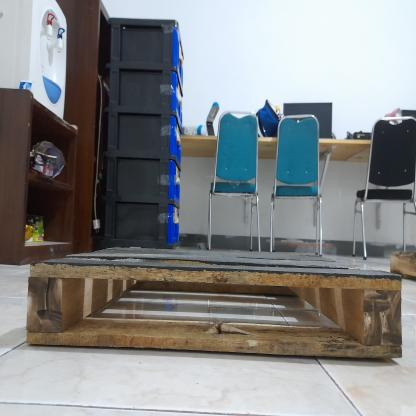Wooden-Pallet: (22, 242, 406, 365)
